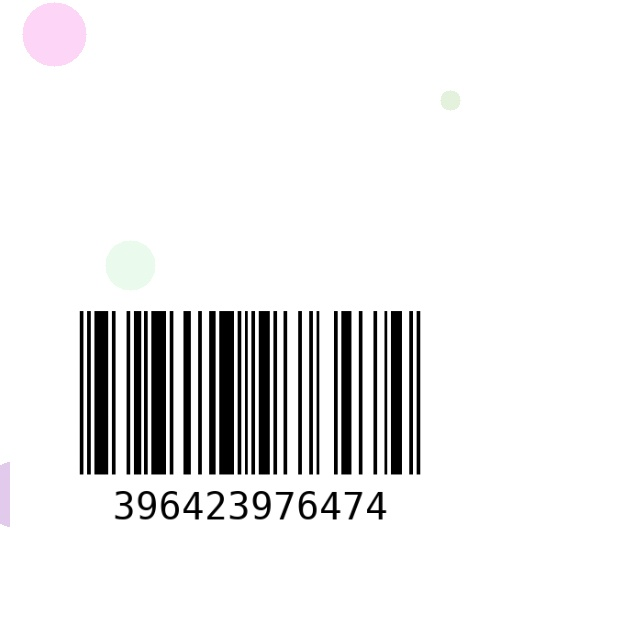barcode: (10, 301, 490, 558)
